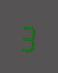three: (19, 19, 36, 53)
